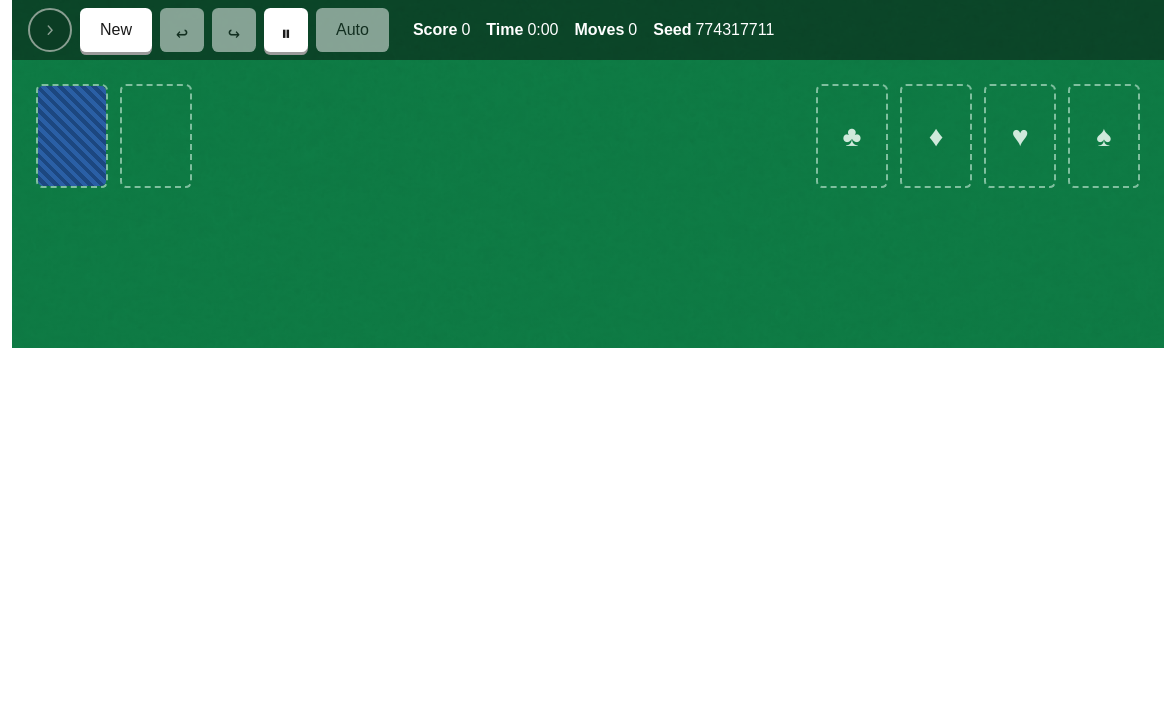
Scenario: GameView sidebar integration › keeps each button on its own independent chevron/close-icon branch while both exist
Click the button named "サイドバーを開く": [50, 30] box left=28, top=8, right=72, bottom=52
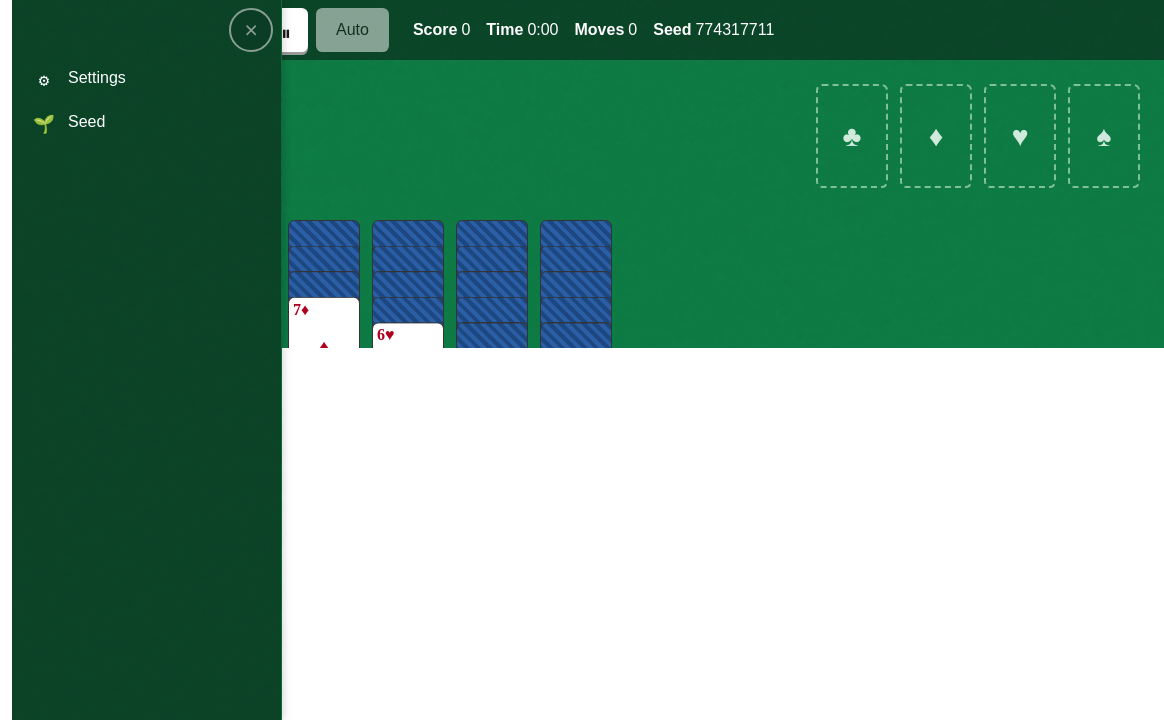
Check: the icon with class "toggle-icon__close" is shown, box left=244, top=23, right=258, bottom=37
